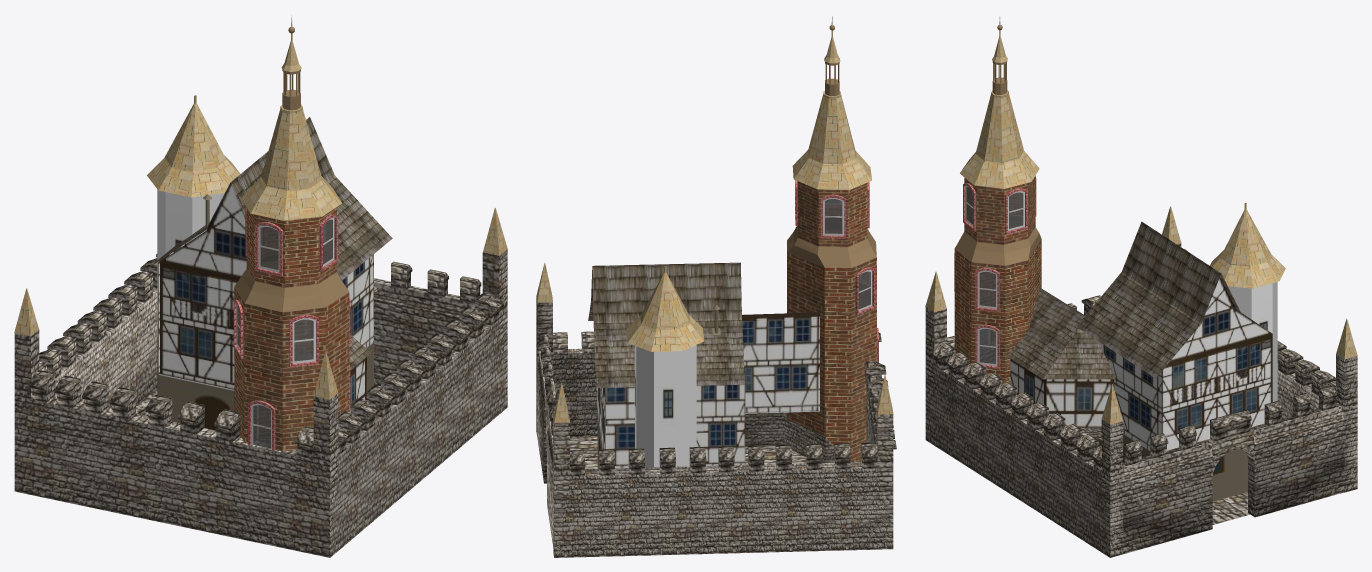
The model's file is fort.fbx.
3 renders of one model, left to right at view 1: azimuth 30°, elevation 25°; view 2: azimuth 150°, elevation 25°; view 3: azimuth 270°, elevation 25°, orthographic. The views are drawn at different scales.
Visible parts, largest first — view 1: hradby, barak, cihlova_zed, strecha_svetla, strecha_hneda, vezicka, Okna, skla, vezicky, bila_stena, okenice; view 2: hradby, barak, cihlova_zed, strecha_hneda, strecha_svetla, bila_stena, vezicka, podstena, vezicky, Okna, zem, skla (+1 smaller); view 3: hradby, barak, strecha_hneda, cihlova_zed, strecha_svetla, vezicka, skla, vezicky, Okna, bila_stena, zem, okenice.
Boxes of the visible parts, box(x1,y1,x2,y2) form: hradby: box(14, 249, 507, 557); barak: box(157, 184, 373, 438); cihlova_zed: box(234, 207, 349, 451); strecha_svetla: box(147, 33, 341, 220); strecha_hneda: box(150, 117, 392, 370); vezicka: box(234, 15, 348, 312); Okna: box(233, 208, 350, 450); skla: box(237, 219, 332, 448); vezicky: box(14, 207, 507, 399); bila_stena: box(157, 189, 224, 336); okenice: box(236, 217, 334, 448); hradby: box(536, 297, 896, 557); barak: box(597, 306, 819, 468); cihlova_zed: box(787, 181, 876, 462); strecha_hneda: box(588, 262, 813, 387); strecha_svetla: box(626, 30, 871, 351); bila_stena: box(636, 345, 696, 467); vezicka: box(787, 16, 876, 267); podstena: box(745, 407, 834, 462); vezicky: box(536, 263, 893, 422); Okna: box(795, 180, 878, 362); zem: box(570, 436, 834, 469); skla: box(825, 199, 870, 309); hradby: box(925, 243, 1357, 557); barak: box(1010, 226, 1272, 501); strecha_hneda: box(1007, 221, 1240, 379); cihlova_zed: box(954, 176, 1041, 383); strecha_svetla: box(960, 30, 1285, 288); vezicka: box(955, 17, 1041, 265); skla: box(959, 187, 1023, 363); vezicky: box(925, 206, 1357, 424); Okna: box(954, 177, 1036, 369); bila_stena: box(1113, 282, 1277, 401); zem: box(1082, 433, 1249, 524); okenice: box(966, 185, 1024, 365).
Size of the model in its own units: 3.99 by 4.27 by 3.89.
11 materials, 8 textured.
